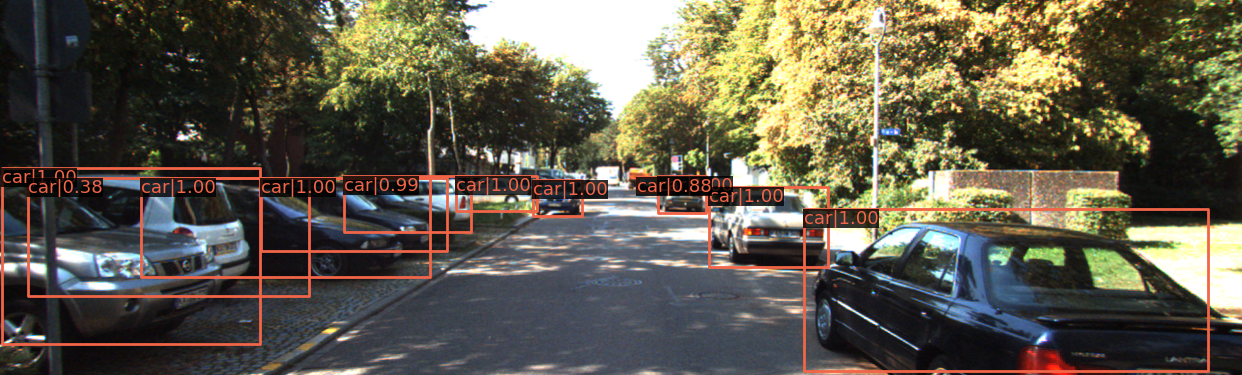car: (800, 207, 1242, 375), (1, 138, 236, 372), (1, 174, 257, 307), (101, 177, 407, 283), (221, 178, 434, 257), (709, 191, 828, 268), (311, 177, 474, 233), (445, 178, 533, 209), (657, 176, 703, 214), (535, 182, 580, 218)
